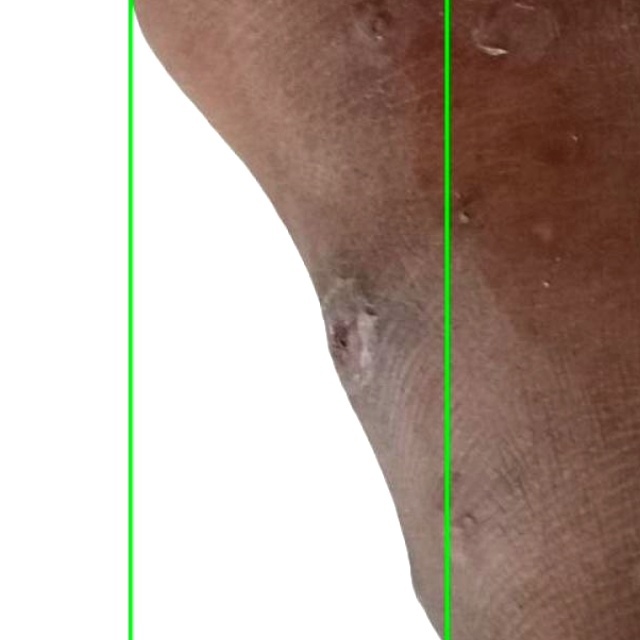Eczema: (130, 0, 639, 639), (0, 0, 448, 639)
